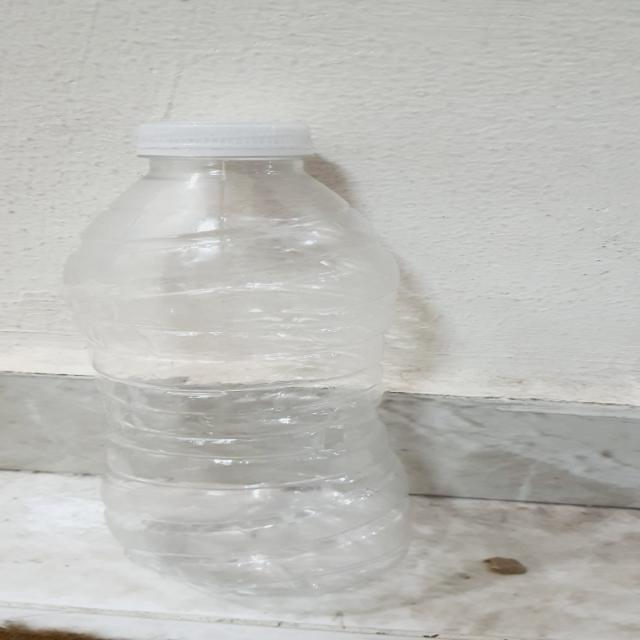plastic: (62, 121, 412, 596)
